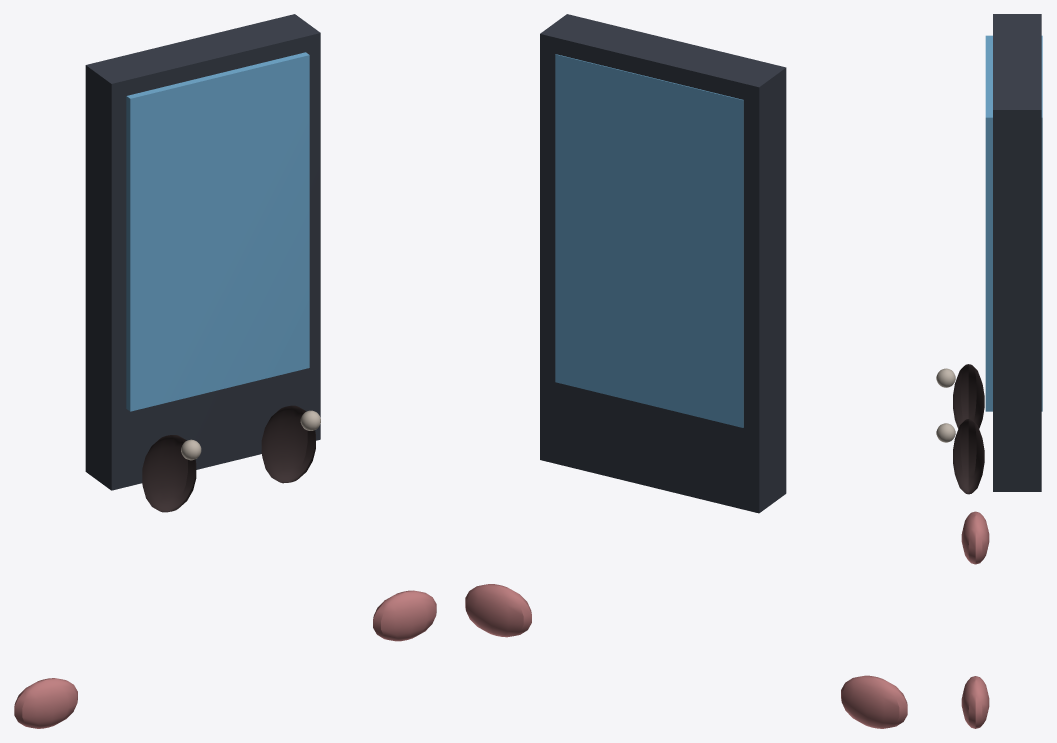
Rendered from ped38a744.glb.
3 views of the same model, side by side, from view 1: azimuth 30°, elevation 25°; view 2: azimuth 150°, elevation 25°; view 3: azimuth 270°, elevation 25° (orthographic). The views are drawn at different scales.
Parts seen in each view (by area): view 1: pet_ped38a744; view 2: pet_ped38a744; view 3: pet_ped38a744.
Part boxes in pixels (box(x1,y1,x2,y2)): pet_ped38a744: box(14, 14, 436, 728); pet_ped38a744: box(465, 14, 907, 728); pet_ped38a744: box(936, 14, 1042, 728).
Bounding box in the file's own units: 0.2825 × 0.3951 × 0.0654.
